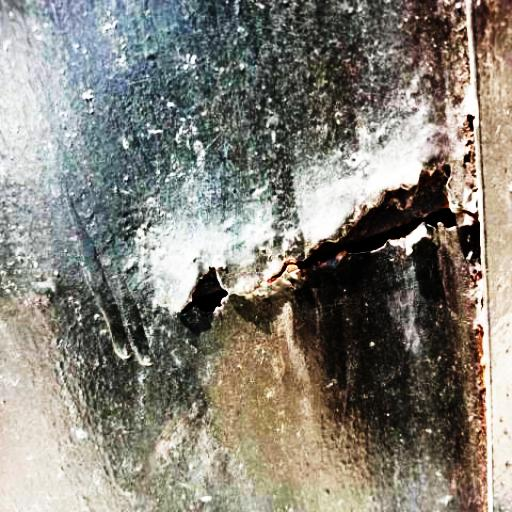crack: (180, 201, 457, 326)
